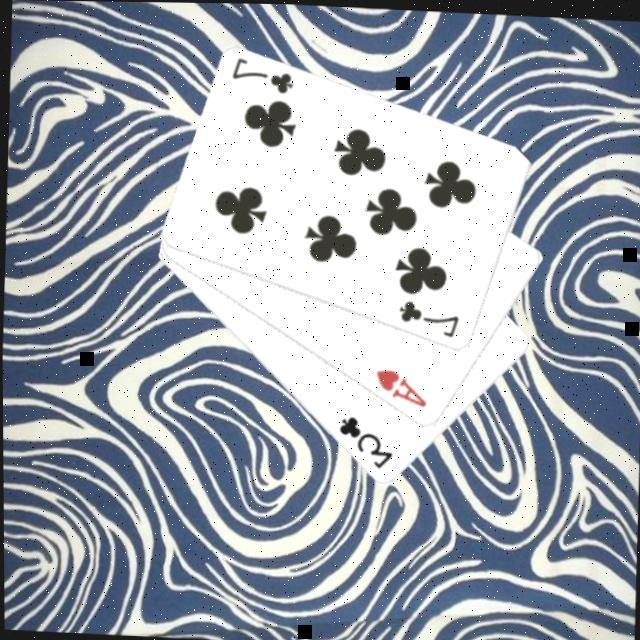3C: (330, 412, 394, 472)
7C: (225, 53, 295, 98), (392, 296, 460, 340)
AH: (368, 364, 428, 410)
